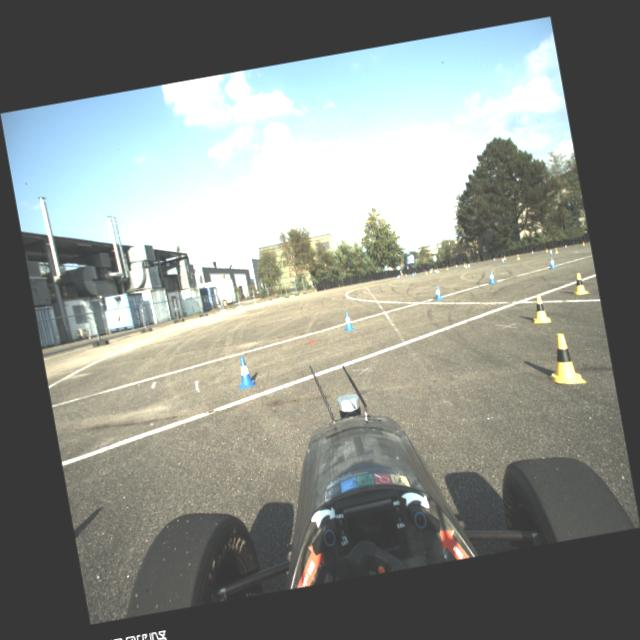blue_cone: (234, 356, 256, 388), (340, 310, 354, 330), (432, 284, 442, 300), (486, 270, 495, 283), (548, 256, 556, 268), (467, 262, 471, 268), (454, 262, 458, 268), (548, 248, 552, 254), (492, 256, 496, 261), (501, 256, 504, 262), (398, 274, 401, 278), (564, 244, 567, 248), (531, 250, 534, 254), (434, 268, 436, 273), (396, 275, 398, 279), (404, 272, 406, 276), (412, 272, 414, 276), (414, 271, 416, 275)
yellow_cone: (543, 330, 585, 388), (529, 293, 550, 324), (570, 271, 589, 295), (554, 246, 558, 253), (516, 253, 520, 259), (544, 247, 548, 252), (503, 254, 506, 260), (424, 270, 428, 274), (428, 268, 432, 272), (464, 263, 467, 268), (582, 240, 584, 246), (462, 262, 465, 266), (446, 265, 448, 270), (436, 267, 438, 272)
